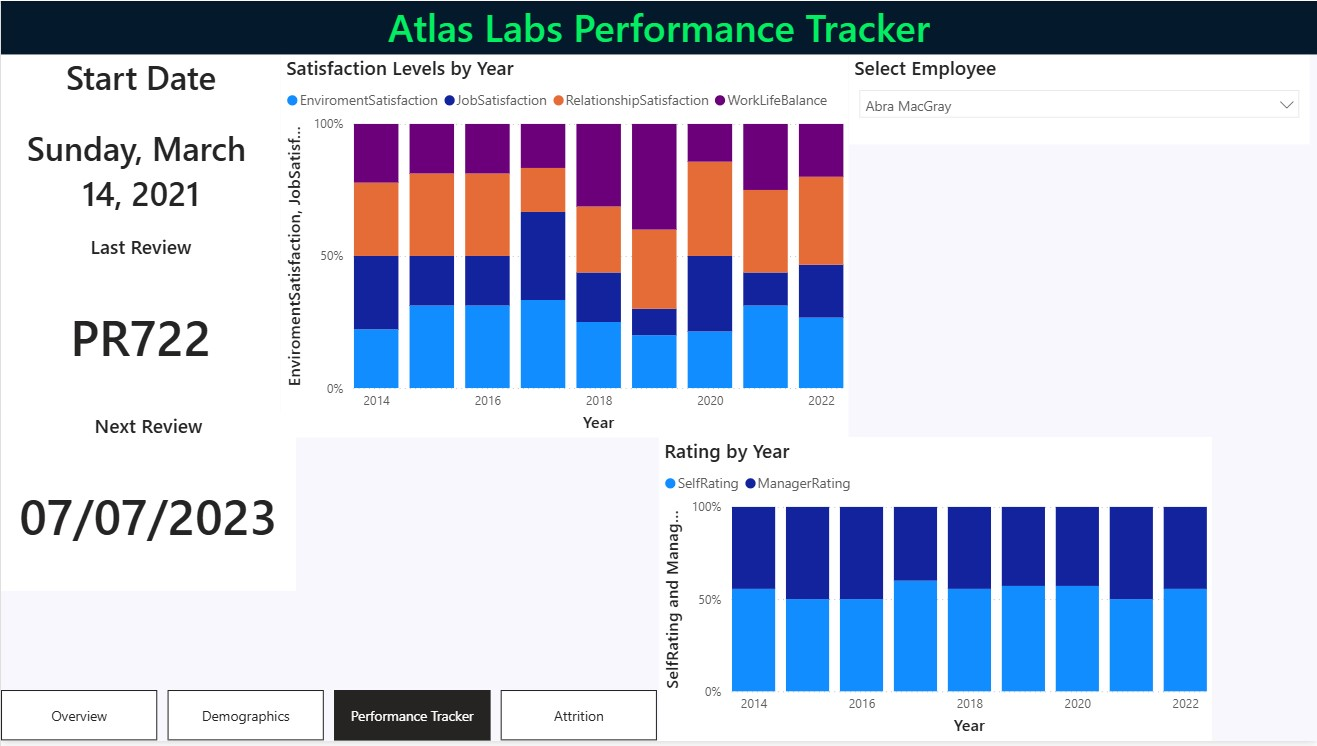

The page's visual inventory and layout, read from the dashboard file:
{"tool":"powerbi","page":{"name":"Performance Tracker","canvas":[1280,720],"ordinal":2},"visuals":[{"type":"slicer","title":"Select Employee","fields":{"Values":["DimEmployee.FullName"]},"box":[824.8,51.6,448.4,87.5],"z":0},{"type":"card","title":"Start Date","fields":{"Values":["Min(DimEmployee.HireDate)"]},"box":[0,51.6,272.3,174.1],"z":1000},{"type":"card","title":"Last Review","fields":{"Values":["_Measures.LastReviewDate"]},"box":[0,225.7,272.3,174.1],"z":2000},{"type":"card","title":"Next Review","fields":{"Values":["_Measures.NextReviewDate"]},"box":[0,399.8,286.9,174.1],"z":3000},{"type":"hundredPercentStackedColumnChart","title":"Satisfaction Levels by Year","fields":{"Category":["DimDate.Year"],"Y":["_Measures.EnviromentSatisfaction","_Measures.JobSatisfaction","_Measures.RelationshipSatisfaction","_Measures.WorkLifeBalance"]},"box":[272.3,51.6,552.5,372.5],"z":4000},{"type":"hundredPercentStackedColumnChart","title":"Rating by Year","fields":{"Y":["_Measures.SelfRating","_Measures.ManagerRating"],"Category":["DimDate.Year"]},"box":[640,424.1,537.9,295.7],"z":5000},{"type":"shape","title":"Atlas Labs Performance Tracker","box":[0,0,1280,51.6],"z":6000},{"type":"pageNavigator","box":[0,670.2,640,49.6],"z":6001}]}

Visuals, with their boxes in screenshot pixels (x1, y1, x2, y2), scaled from the page's 1280x720 canvas onto the 1317x746 screenshot:
"Select Employee" slicer: 849:53:1310:144
"Start Date" card: 0:53:280:234
"Last Review" card: 0:234:280:414
"Next Review" card: 0:414:295:595
"Satisfaction Levels by Year" hundredPercentStackedColumnChart: 280:53:849:439
"Rating by Year" hundredPercentStackedColumnChart: 658:439:1212:745
"Atlas Labs Performance Tracker" shape: 0:0:1316:53
pageNavigator: 0:694:658:745
